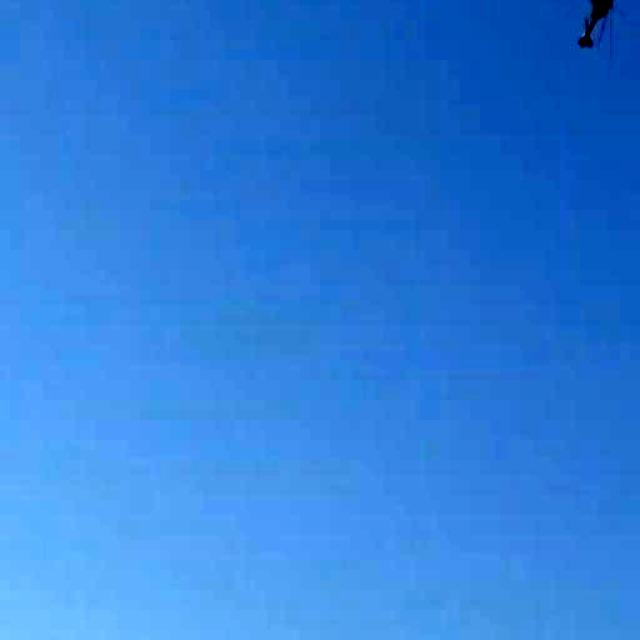drone: (568, 0, 628, 85)
